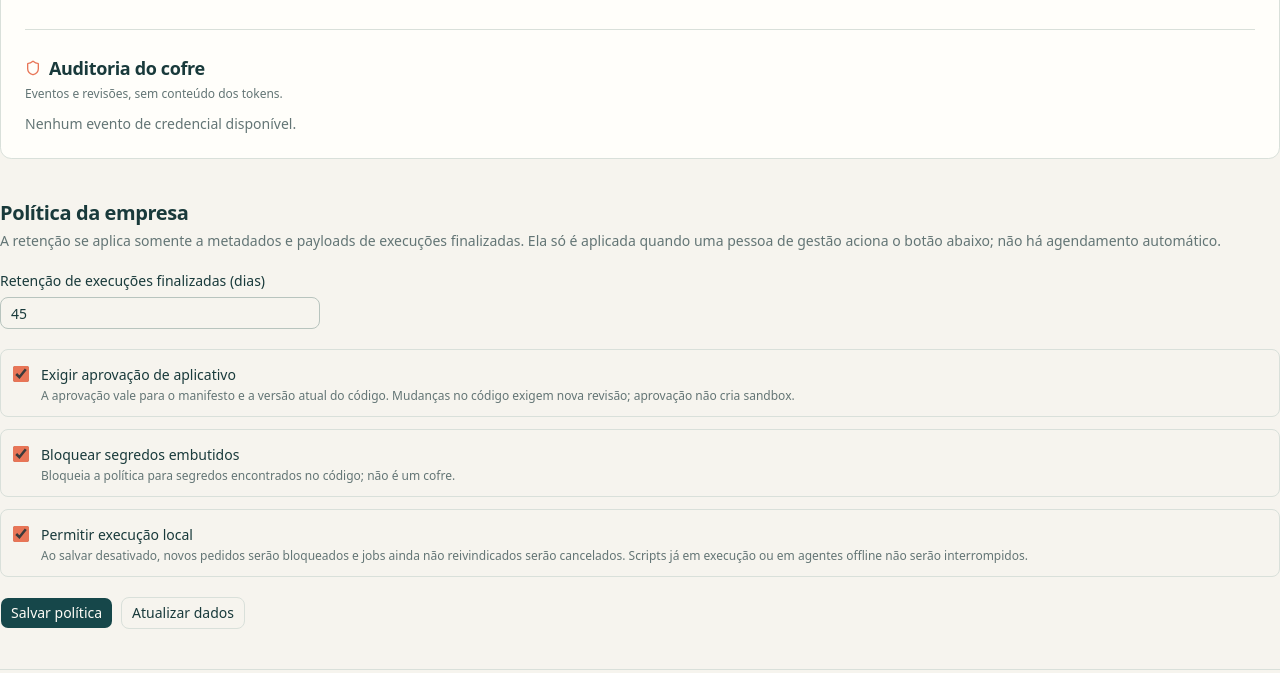
Test: security page states the actual execution and vault boundaries and saves settings
(page scrolled)
Replace the text in the number field labelled "Retenção de execuções finalizadas (dias)" with "62": (160, 313) [0,297,320,329]
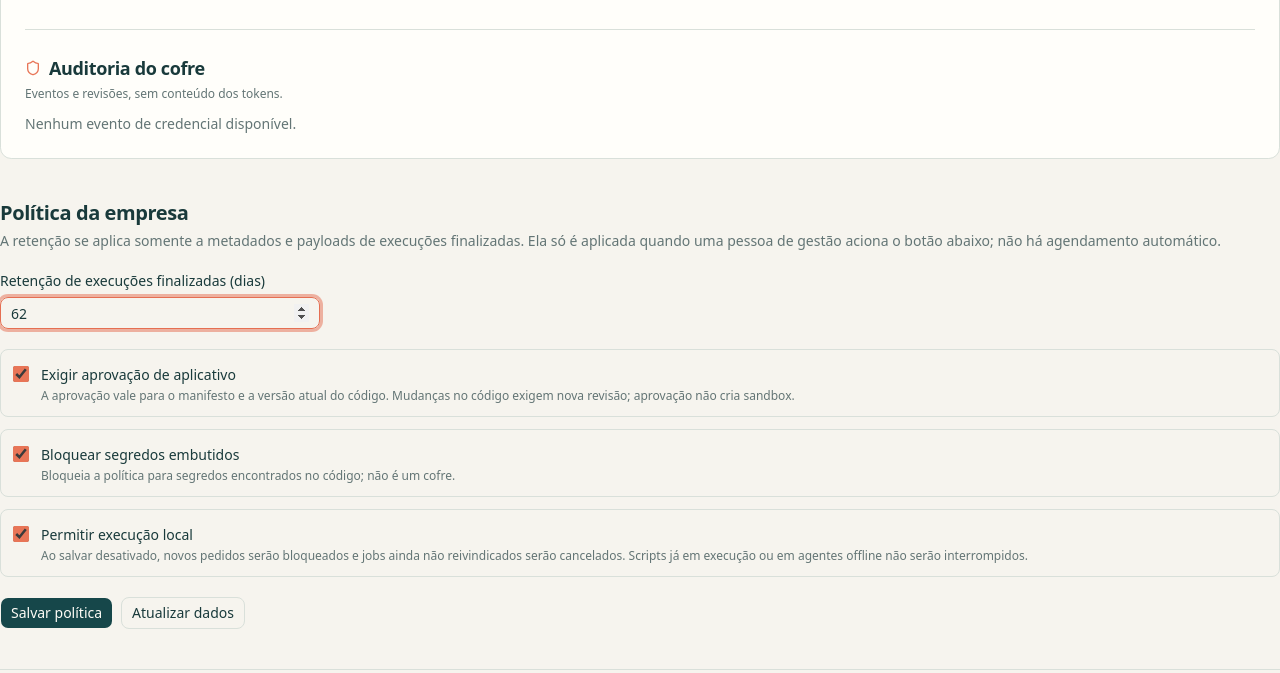
Click the button "Salvar política": click(57, 613) [0,597,113,629]
(page scrolled)
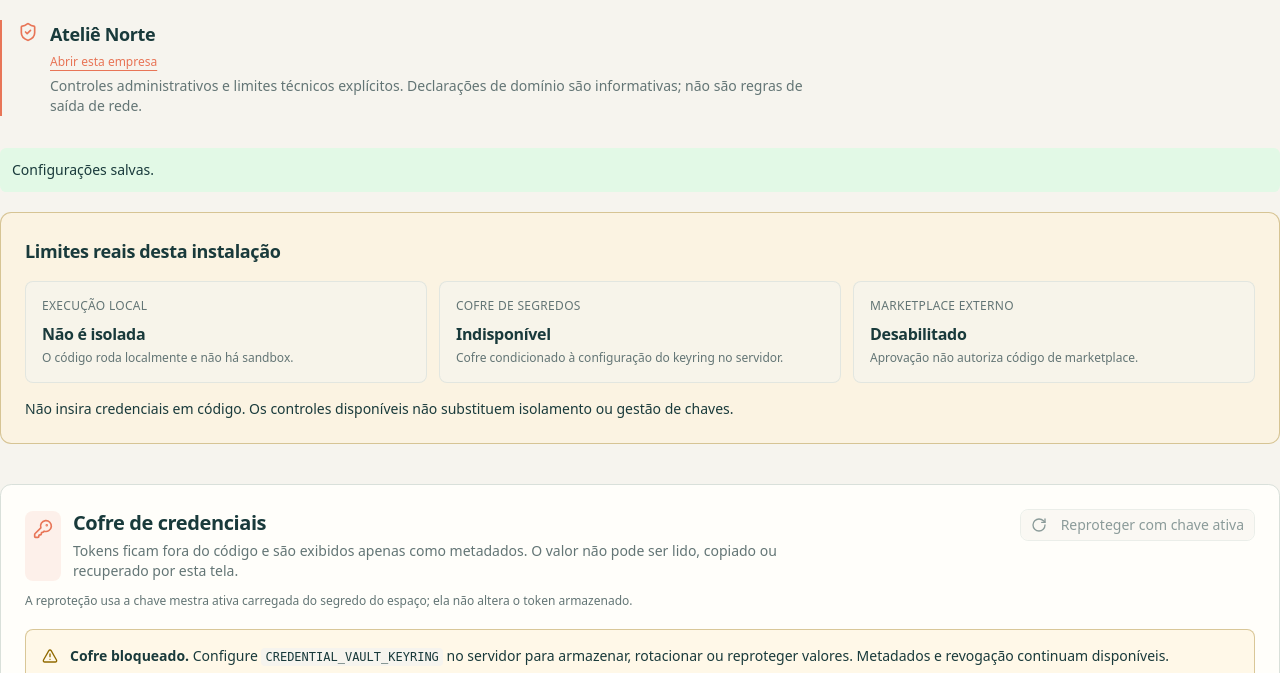
expect the message reads "Configurações salvas.": met, box [12,160,154,179]
